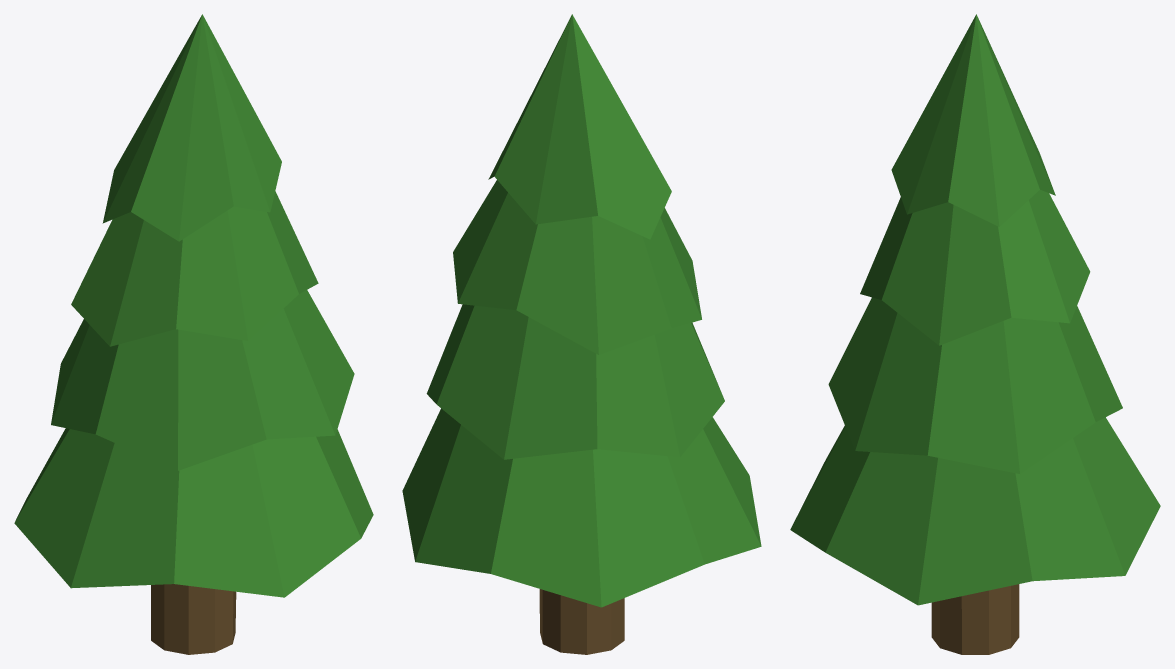
The model's file is Tree1.fbx.
3 views of the same model, side by side, from view 1: azimuth 30°, elevation 25°; view 2: azimuth 150°, elevation 25°; view 3: azimuth 270°, elevation 25° (orthographic).
Parts seen in each view (by area): view 1: Tree 1; view 2: Tree 1; view 3: Tree 1.
Boxes of the visible parts, box(x1,y1,x2,y2) form: Tree 1: box(14, 14, 373, 654); Tree 1: box(402, 14, 761, 654); Tree 1: box(790, 14, 1160, 654).
Size of the model in its own units: 98.79 by 193 by 103.
